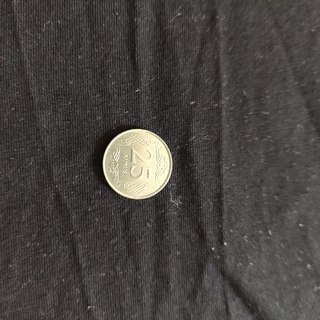25KURUS: (100, 126, 175, 201)
